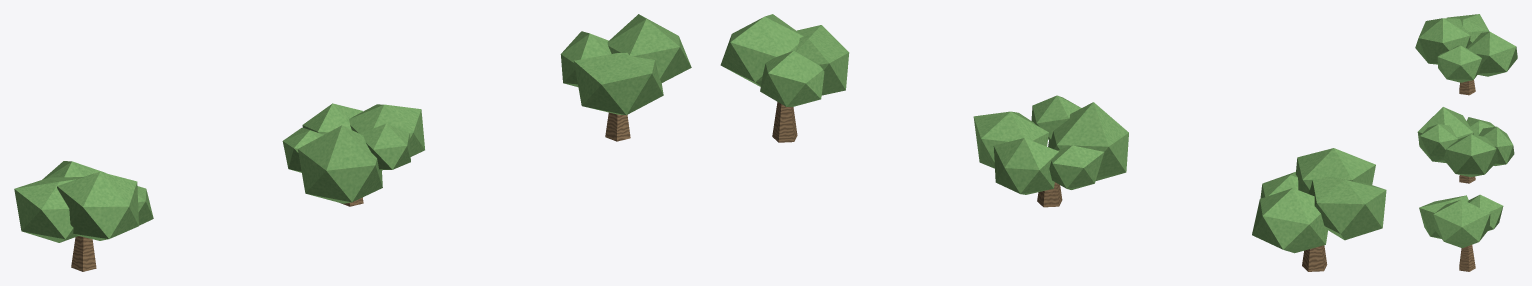
File: bush.glb
3 views of the same model, side by side, from view 1: azimuth 30°, elevation 25°; view 2: azimuth 150°, elevation 25°; view 3: azimuth 270°, elevation 25° (orthographic). The views are drawn at different scales.
Parts seen in each view (by area): view 1: bush_2, bush_3, bush_1; view 2: bush_2, bush_1, bush_3; view 3: bush_1, bush_2, bush_3.
Part boxes in pixels (x1,y1,x2,y2): bush_2: (282, 103, 424, 206); bush_3: (560, 14, 691, 141); bush_1: (14, 161, 153, 271); bush_2: (973, 95, 1128, 207); bush_1: (1252, 148, 1386, 271); bush_3: (720, 14, 849, 142); bush_1: (1415, 14, 1517, 95); bush_2: (1417, 107, 1514, 183); bush_3: (1419, 194, 1503, 271).
Bounding box in the file's own units: 39.36 × 6.51 × 7.86.
3 materials, 3 textured.
